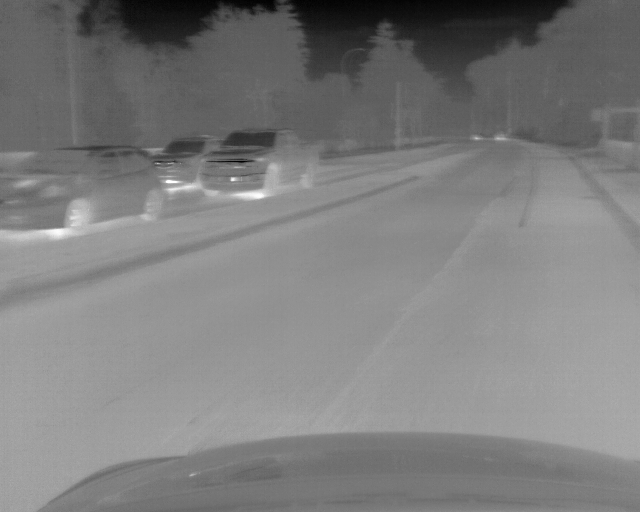car: (2, 144, 167, 234), (200, 128, 319, 200), (151, 136, 225, 191)
